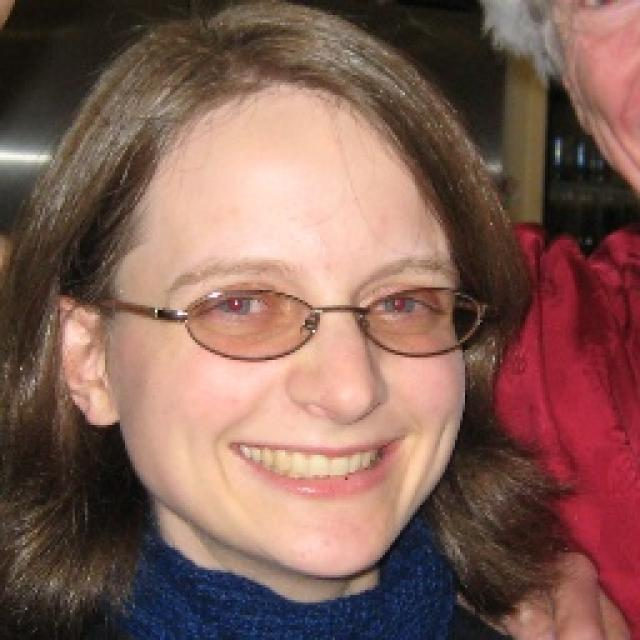earlobe: (81, 387, 117, 428)
eye: (208, 291, 282, 321), (370, 293, 439, 321)
nose: (288, 394, 402, 464)
wholeear: (45, 294, 118, 428)
